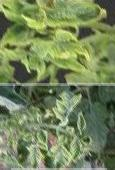Tomato leaf yellow virus: (16, 2, 105, 26), (33, 41, 83, 64), (51, 26, 77, 43), (78, 111, 88, 134), (73, 137, 83, 159), (57, 98, 69, 116), (41, 130, 51, 149)
